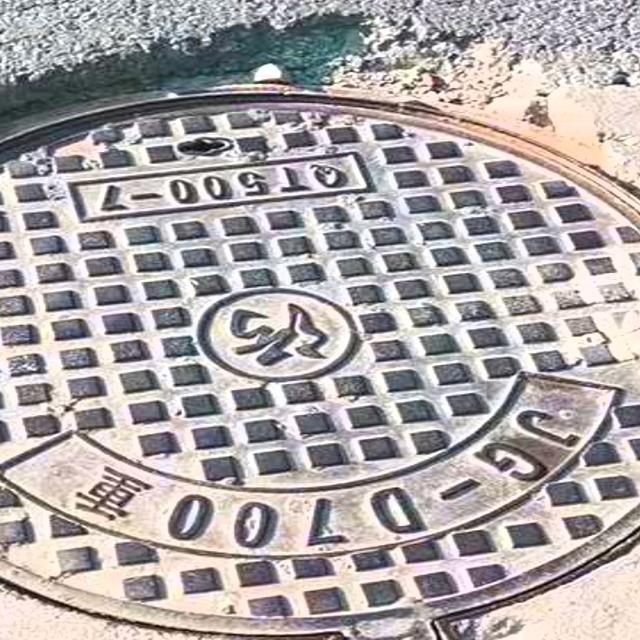circle: (0, 35, 640, 640)
